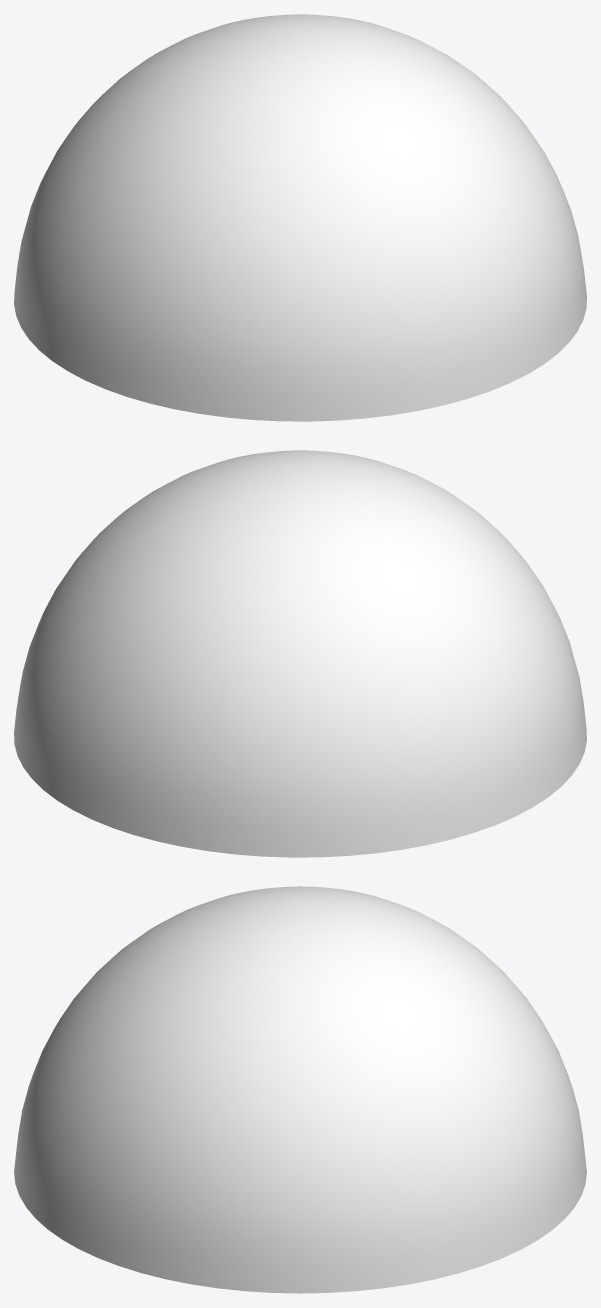
File: pokearriba.obj
3 renders of one model, top to bottom at view 1: azimuth 30°, elevation 25°; view 2: azimuth 150°, elevation 25°; view 3: azimuth 270°, elevation 25°, orthographic.
Visible parts, largest first — view 1: polySurface1 Sphere001; view 2: polySurface1 Sphere001; view 3: polySurface1 Sphere001.
Part boxes in pixels (x1=…): polySurface1 Sphere001: x1=14, y1=14, x2=586, y2=421; polySurface1 Sphere001: x1=14, y1=450, x2=586, y2=857; polySurface1 Sphere001: x1=14, y1=886, x2=586, y2=1293.
Size of the model in its own units: 2.84 by 1.43 by 2.84.
1 material, 1 textured.
